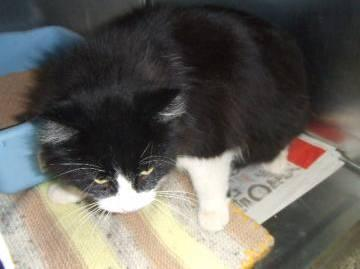cat: (24, 8, 309, 233)
